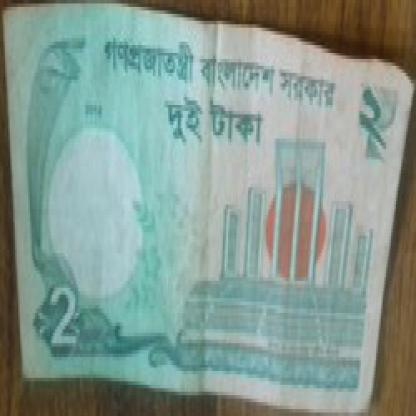two taka: (38, 271, 88, 350), (356, 80, 391, 152)
